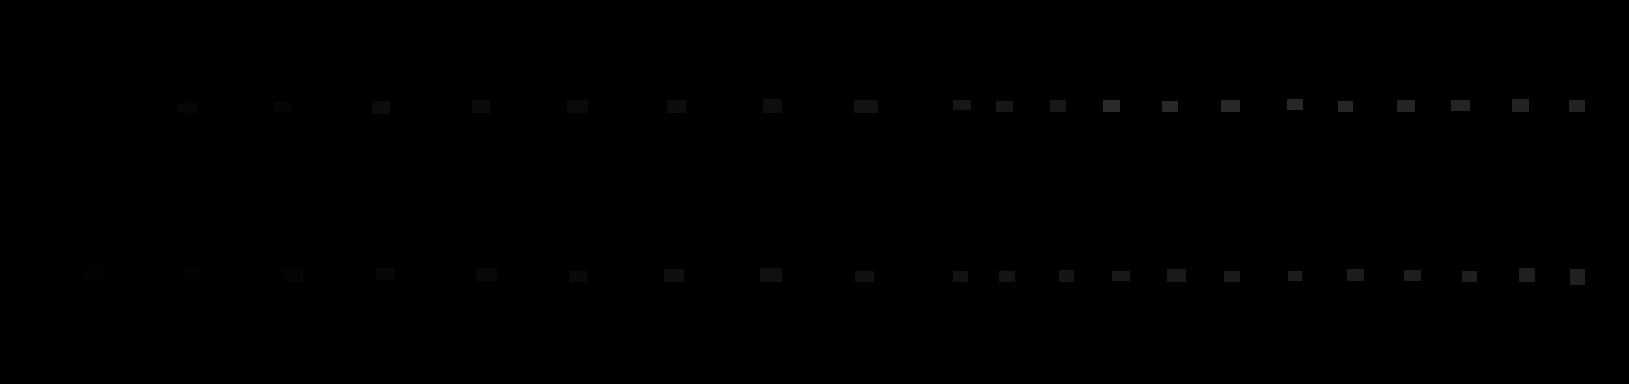light: (854, 100, 878, 113), (760, 268, 782, 282), (283, 268, 303, 282), (763, 99, 782, 113), (476, 268, 497, 281), (567, 100, 588, 113), (664, 269, 684, 282), (1167, 269, 1186, 282), (1570, 269, 1585, 285), (84, 267, 102, 281), (183, 267, 201, 281), (472, 100, 490, 113), (667, 100, 686, 113), (1221, 100, 1240, 112), (1519, 268, 1535, 282), (372, 101, 390, 114), (1512, 99, 1529, 112), (376, 268, 395, 280), (1397, 100, 1415, 112), (177, 103, 197, 113), (855, 271, 874, 282), (1451, 100, 1470, 111), (1347, 269, 1364, 281), (1569, 100, 1585, 112), (1103, 100, 1120, 112), (274, 102, 292, 113), (569, 271, 587, 282), (1404, 270, 1421, 281), (1059, 270, 1074, 282), (953, 100, 971, 110), (1050, 100, 1066, 112), (1112, 271, 1130, 281), (83, 103, 100, 114), (996, 101, 1013, 112), (1224, 271, 1240, 282), (1161, 101, 1178, 112), (953, 271, 968, 282), (999, 271, 1015, 282), (1462, 271, 1477, 282), (1287, 99, 1303, 110), (1338, 101, 1353, 112), (1288, 271, 1302, 281)
